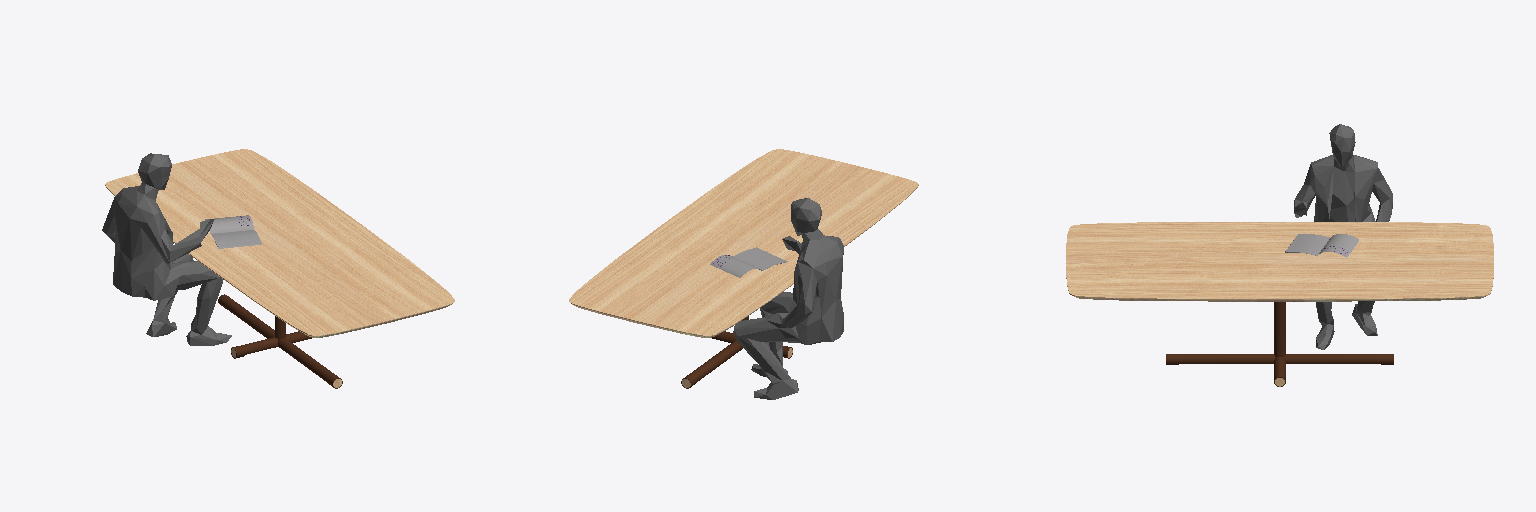
The picture shows the model from 3 angles: view 1: azimuth 30°, elevation 25°; view 2: azimuth 150°, elevation 25°; view 3: azimuth 270°, elevation 25°; orthographic projection.
Visible parts, largest first — view 1: Broers_Design_Nederland; view 2: Broers_Design_Nederland; view 3: Broers_Design_Nederland.
Part boxes in pixels (bbox=[...]): Broers_Design_Nederland: bbox=[102, 149, 454, 388]; Broers_Design_Nederland: bbox=[569, 149, 918, 399]; Broers_Design_Nederland: bbox=[1066, 124, 1493, 386].
Size of the model in its own units: 1.57 by 1.4 by 2.8.
Materials: 4 (3 with a texture image).